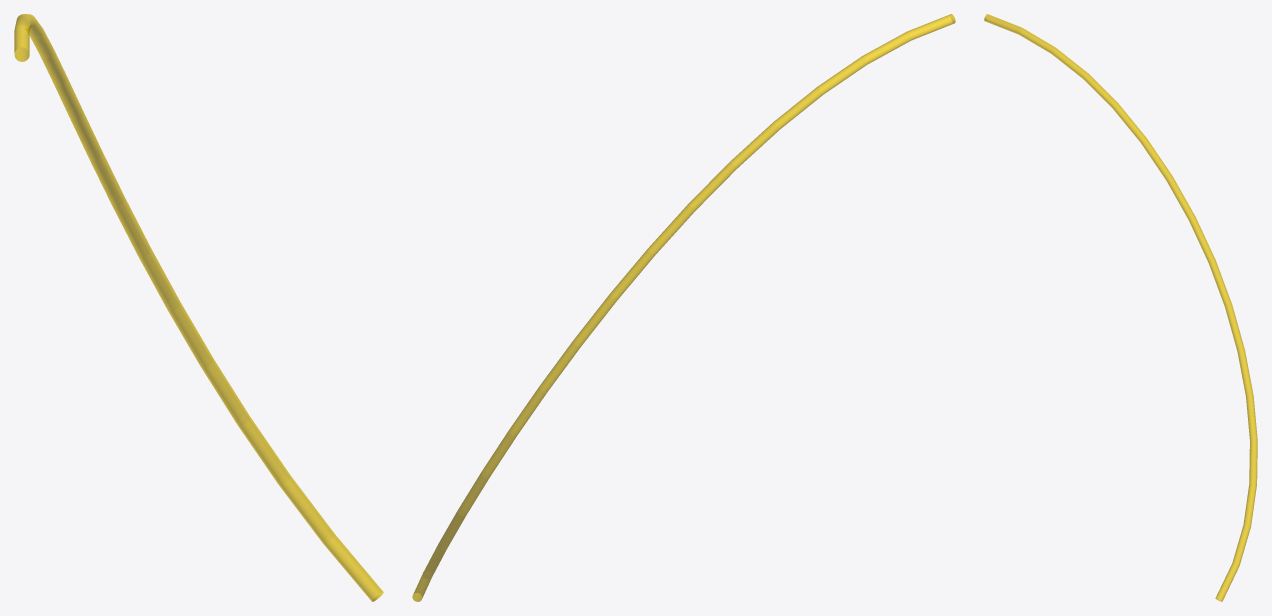
The model's file is Event_84804159_track_23.fbx.
3 views of the same model, side by side, from view 1: azimuth 30°, elevation 25°; view 2: azimuth 150°, elevation 25°; view 3: azimuth 270°, elevation 25° (orthographic). The views are drawn at different scales.
Parts seen in each view (by area): view 1: Model; view 2: Model; view 3: Model.
Part boxes in pixels (box(x1,y1,x2,y2)): Model: box(14, 14, 383, 601); Model: box(412, 14, 955, 601); Model: box(984, 14, 1257, 601).
Bounding box in the file's own units: 1.8 × 2.5 × 1.4.
